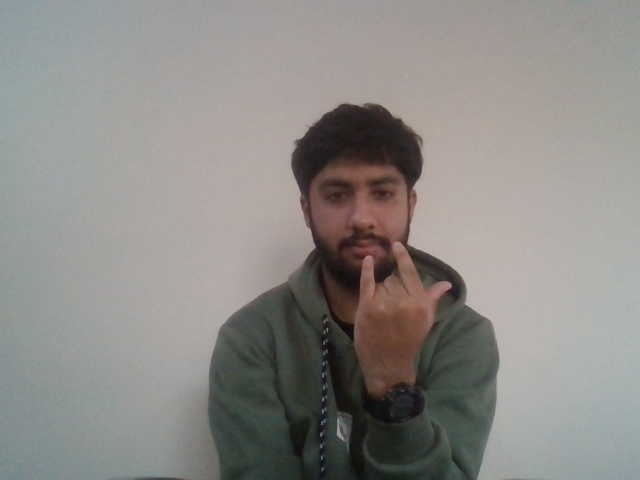IloveYou: (347, 238, 460, 341)
